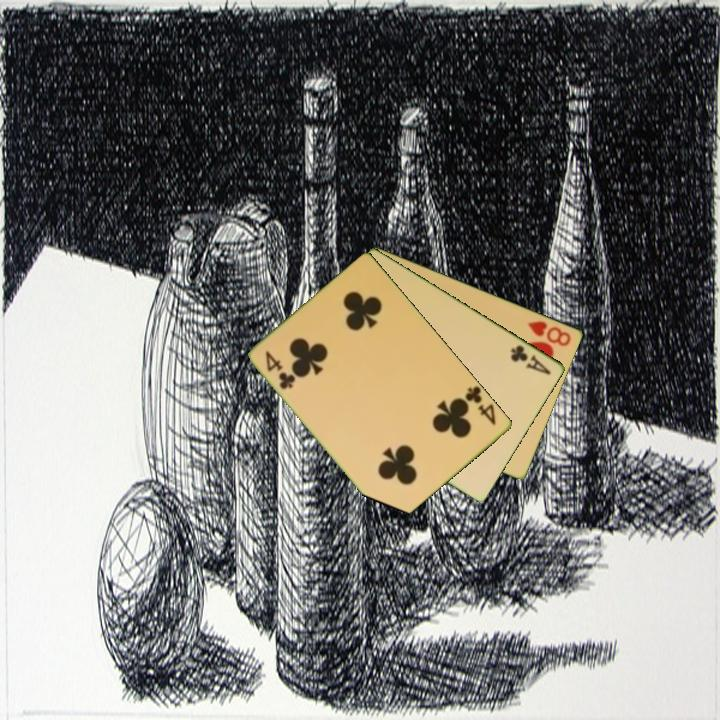4c: (262, 347, 299, 393), (462, 383, 499, 428)
8h: (524, 317, 574, 349)
Ac: (507, 341, 554, 378)
